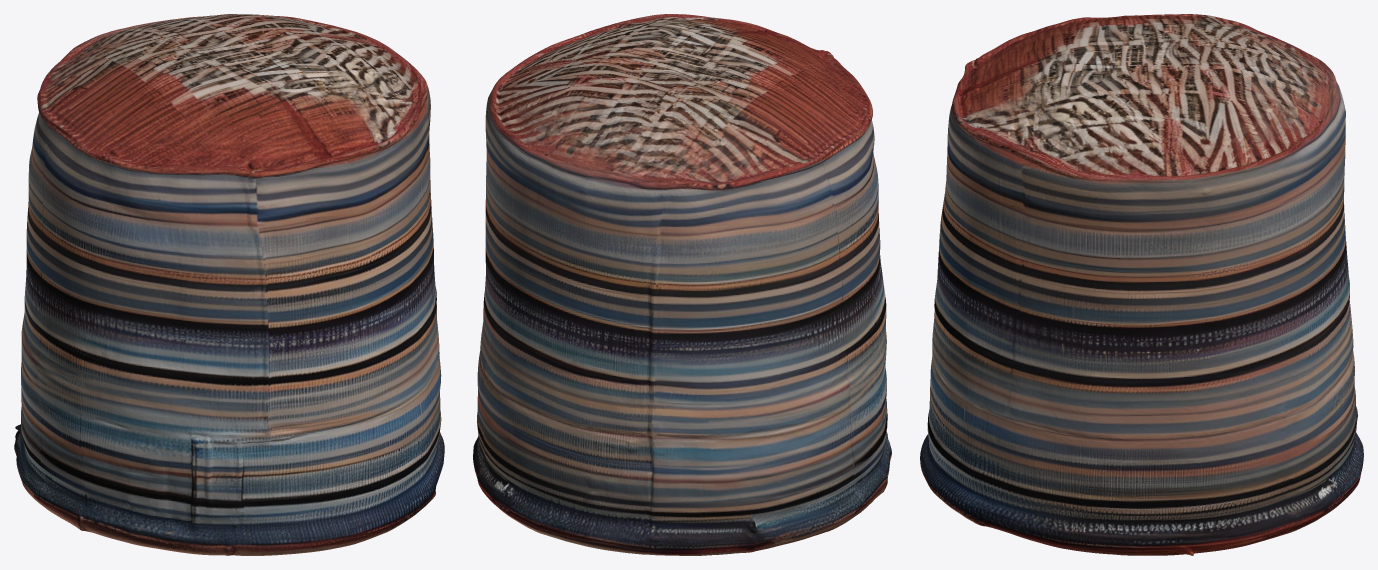
The model's file is c08_pouf_s0.glb.
3 renders of one model, left to right at view 1: azimuth 30°, elevation 25°; view 2: azimuth 150°, elevation 25°; view 3: azimuth 270°, elevation 25°, orthographic. The views are drawn at different scales.
Parts seen in each view (by area): view 1: textured.obj; view 2: textured.obj; view 3: textured.obj.
Part boxes in pixels (left/top/right/bottom): textured.obj: left=14, top=14, right=444, bottom=555; textured.obj: left=473, top=14, right=891, bottom=555; textured.obj: left=920, top=14, right=1363, bottom=555.
Size of the model in its own units: 1.86 by 1.99 by 1.92.
1 material, 1 textured.
